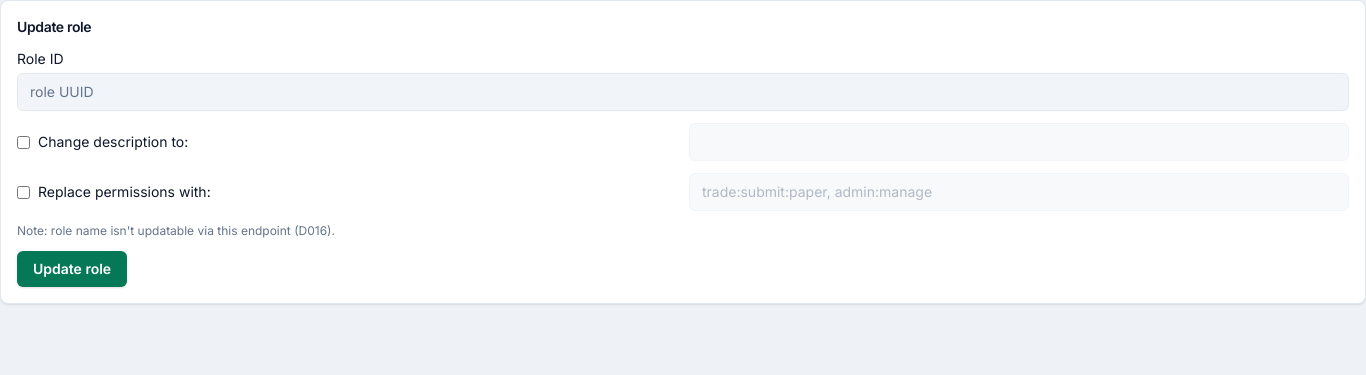
Test: UpdateRoleForm › surfaces a real 403 for a non-admin caller
Type "r-1" into the field labelled "Role ID" at [683, 92], box x1=17 y1=73 x2=1349 y2=111
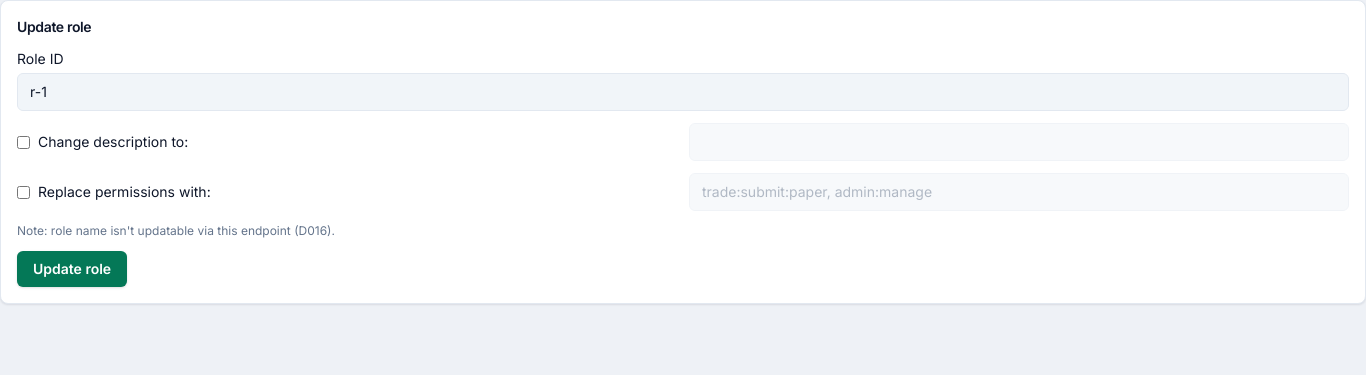
Click the button "Update role" at [72, 269], box x1=17 y1=251 x2=127 y2=287
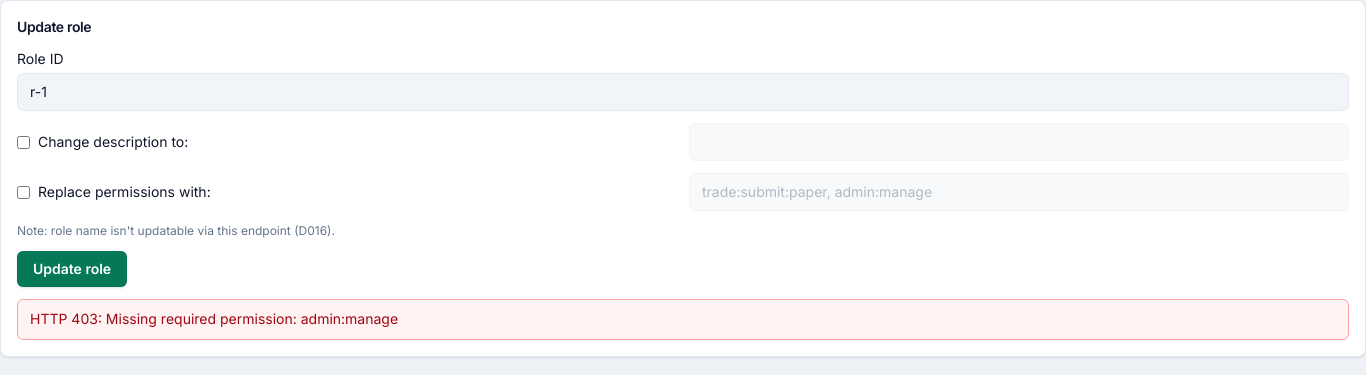
Expected: the text "HTTP 403: Missing required permission: admin:manage" is shown, x1=17 y1=299 x2=1349 y2=340
